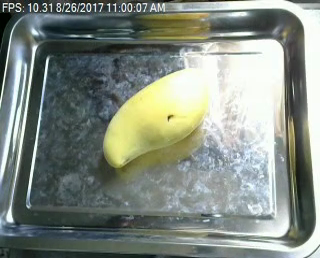Mango: (98, 63, 215, 171)
